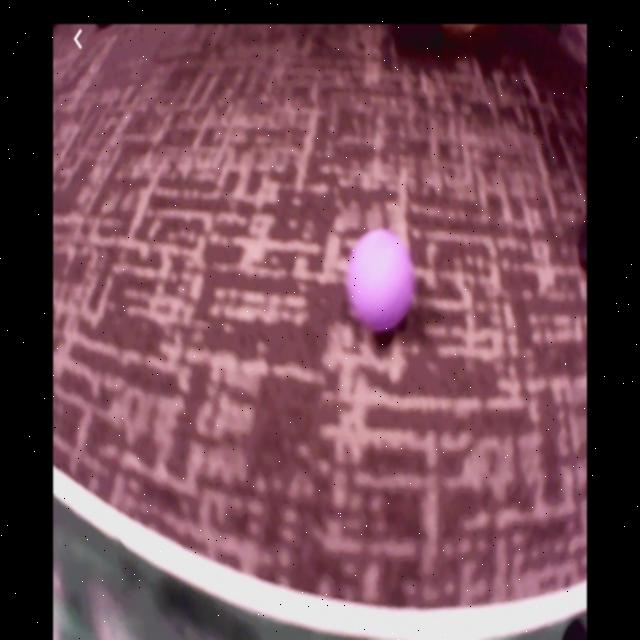ball: (349, 231, 413, 334)
